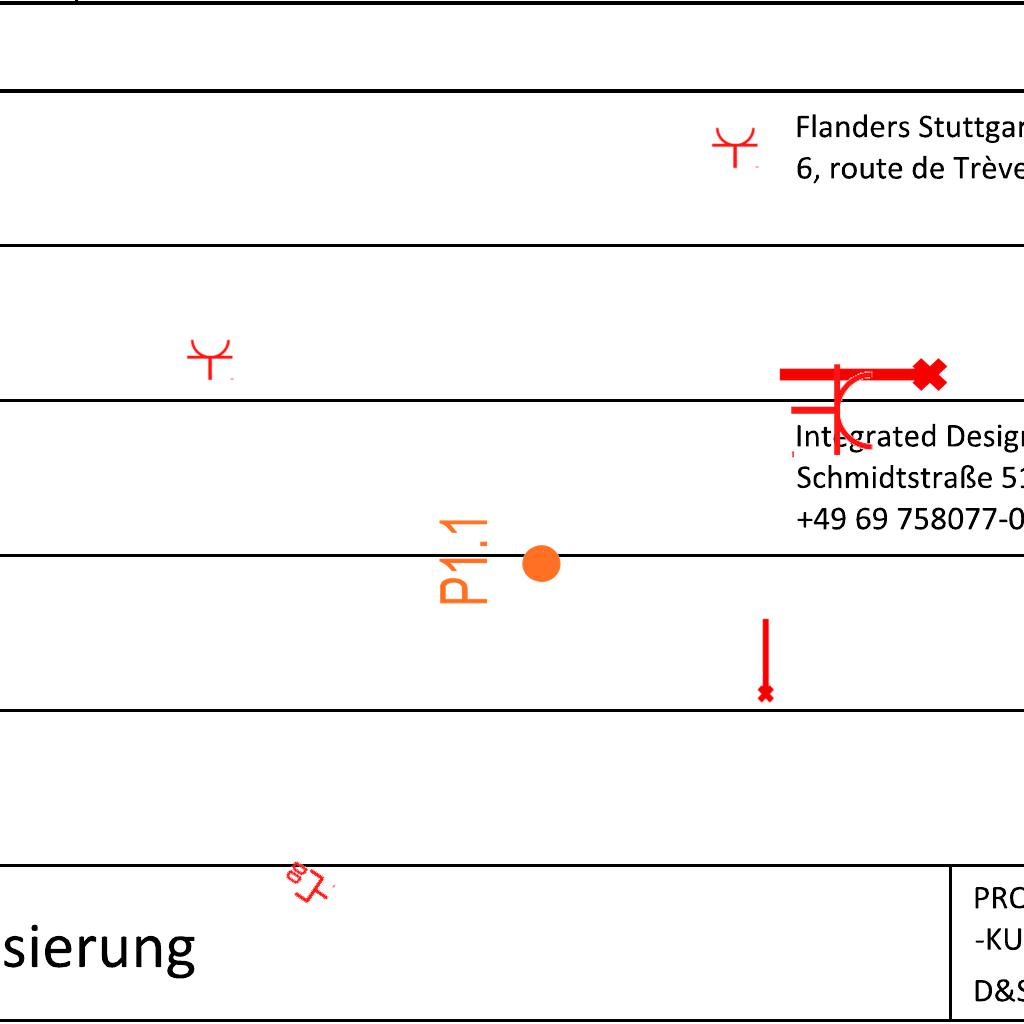ASR_Ansaugoeffnung: (774, 354, 950, 400), (753, 616, 776, 704)
Datenanschluss_zweifach: (276, 857, 338, 914)
Downlight_LED_Einbauleuchten_Flur: (436, 514, 564, 607)
Schukosteckdose_einfach: (789, 362, 876, 462), (711, 126, 761, 169), (186, 338, 236, 381)
